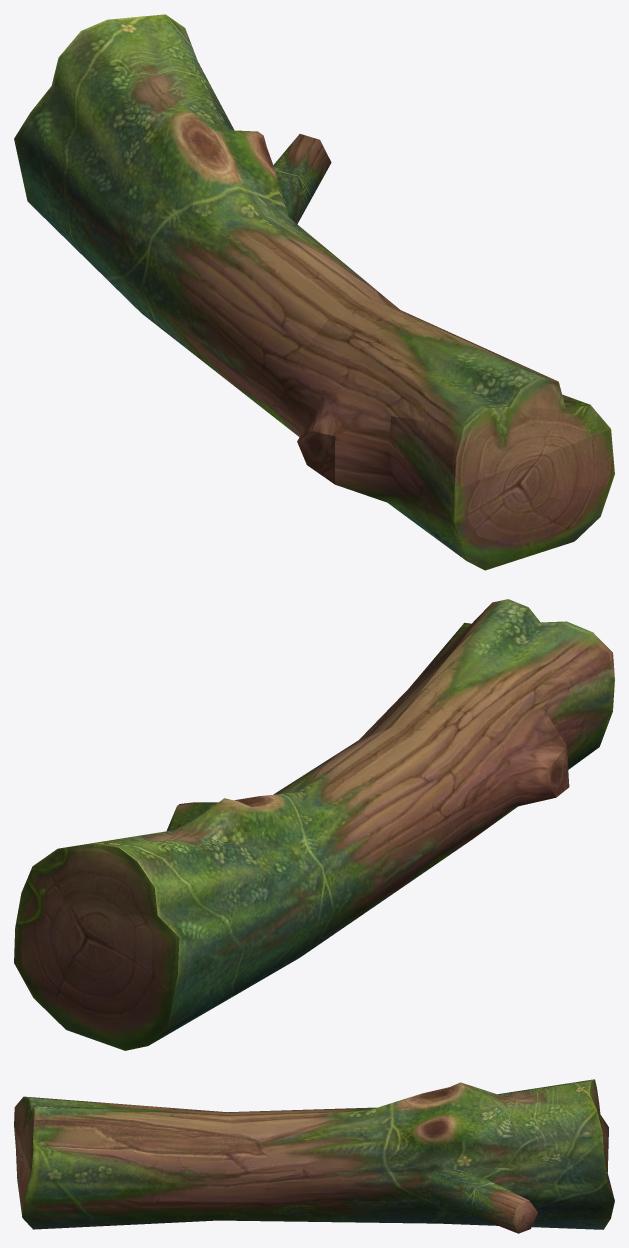
The model's file is Botany_prt_fild_kushugan01_01_new.FBX.
3 renders of one model, top to bottom at view 1: azimuth 30°, elevation 25°; view 2: azimuth 150°, elevation 25°; view 3: azimuth 270°, elevation 25°, orthographic. The views are drawn at different scales.
Visible parts, largest first — view 1: Botany_prt_fild_kushugan01_01_new; view 2: Botany_prt_fild_kushugan01_01_new; view 3: Botany_prt_fild_kushugan01_01_new.
Boxes of the visible parts, x1,y1,x2,y2 form: Botany_prt_fild_kushugan01_01_new: (14,14,614,570); Botany_prt_fild_kushugan01_01_new: (14,599,614,1050); Botany_prt_fild_kushugan01_01_new: (14,1079,614,1233).
Size of the model in its own units: 112 by 75.13 by 294.
